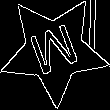M_S: (25, 19, 84, 82)
